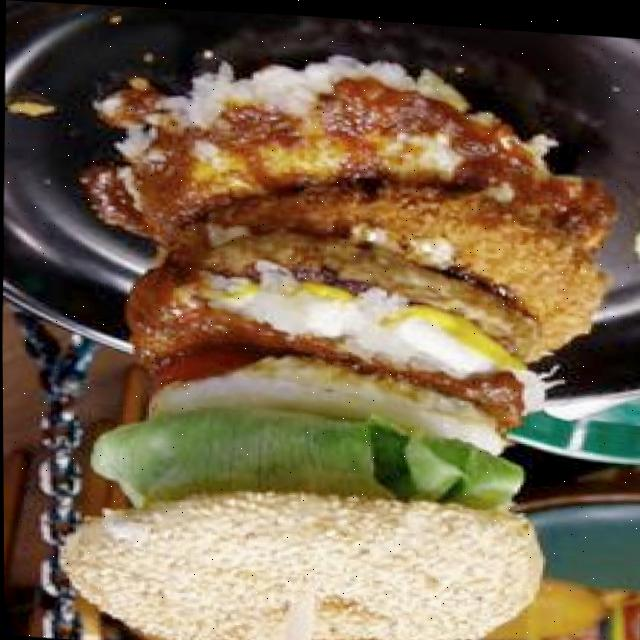汉堡快餐: (110, 76, 550, 640)
